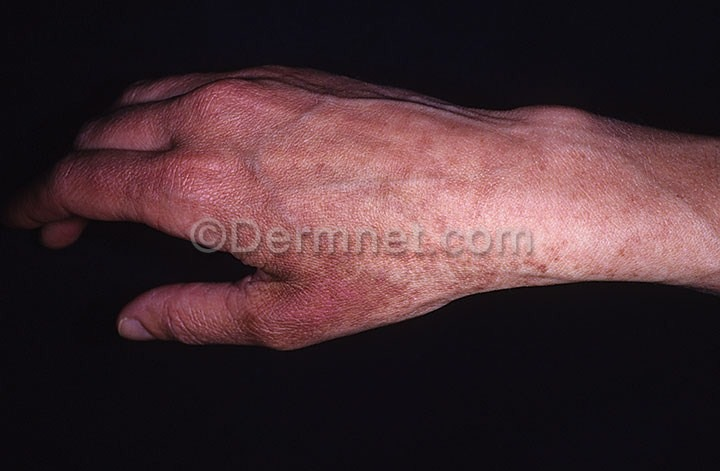Melasma: (96, 73, 299, 214), (246, 265, 414, 360)
